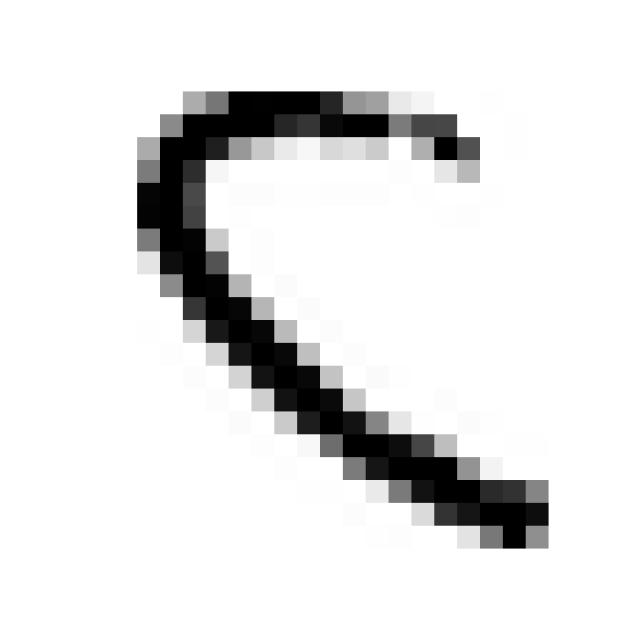2 -two-: (117, 67, 568, 570)
